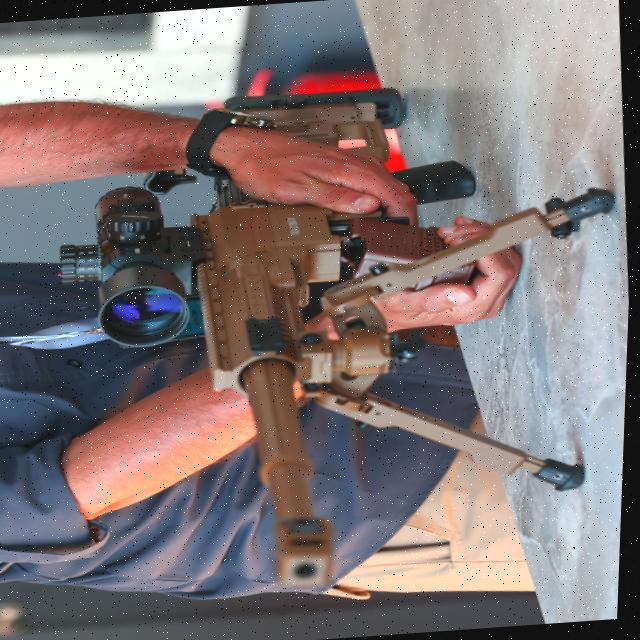firearm: (34, 67, 638, 607)
